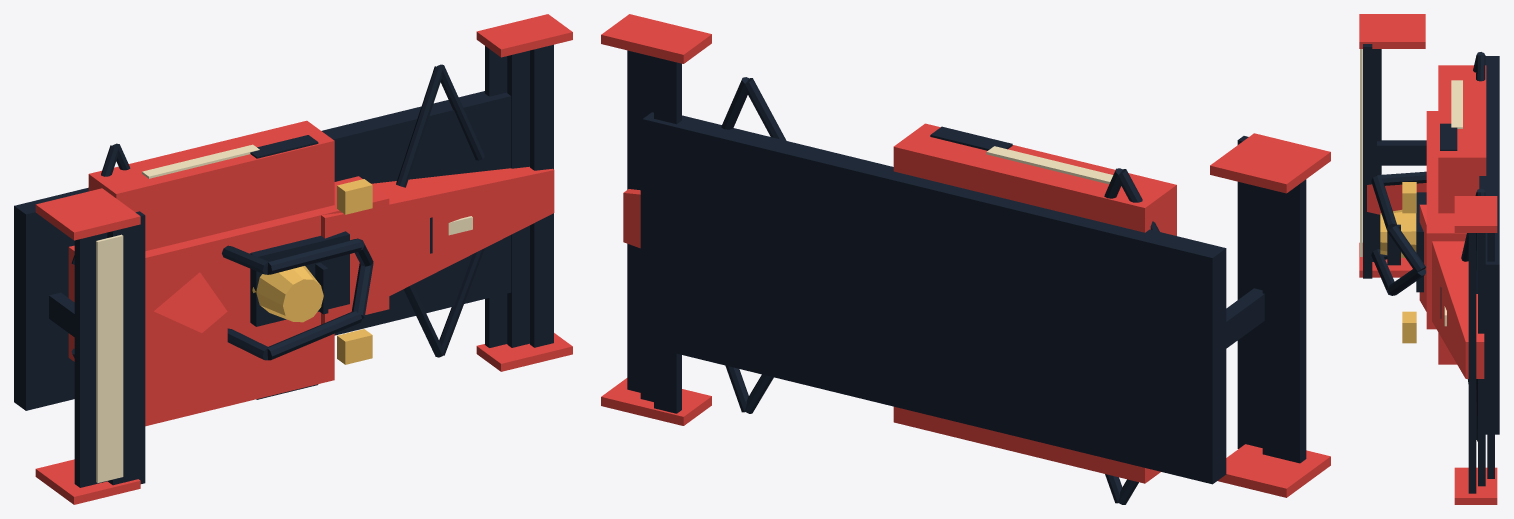
File: f1-chassis.glb
3 renders of one model, left to right at view 1: azimuth 30°, elevation 25°; view 2: azimuth 150°, elevation 25°; view 3: azimuth 270°, elevation 25°, orthographic. The views are drawn at different scales.
Visible parts, largest first — view 1: cel_red_F1 chassis, cel_ink_F1 chassis, cel_cream_F1 chassis, cel_gold_F1 chassis; view 2: cel_ink_F1 chassis, cel_red_F1 chassis, cel_cream_F1 chassis; view 3: cel_red_F1 chassis, cel_ink_F1 chassis, cel_gold_F1 chassis, cel_cream_F1 chassis.
Part boxes in pixels (box(x1,y1,x2,y2)): cel_red_F1 chassis: box(35, 14, 572, 504); cel_ink_F1 chassis: box(14, 44, 553, 487); cel_cream_F1 chassis: box(96, 144, 472, 482); cel_gold_F1 chassis: box(252, 179, 372, 364); cel_ink_F1 chassis: box(627, 50, 1306, 504); cel_red_F1 chassis: box(601, 14, 1330, 497); cel_cream_F1 chassis: box(986, 146, 1113, 184); cel_red_F1 chassis: box(1359, 14, 1497, 504); cel_ink_F1 chassis: box(1363, 44, 1499, 493); cel_gold_F1 chassis: box(1380, 182, 1416, 343); cel_cream_F1 chassis: box(1360, 49, 1462, 326).
Bounding box in the file's own units: 3.25 × 1.8 × 0.825.
